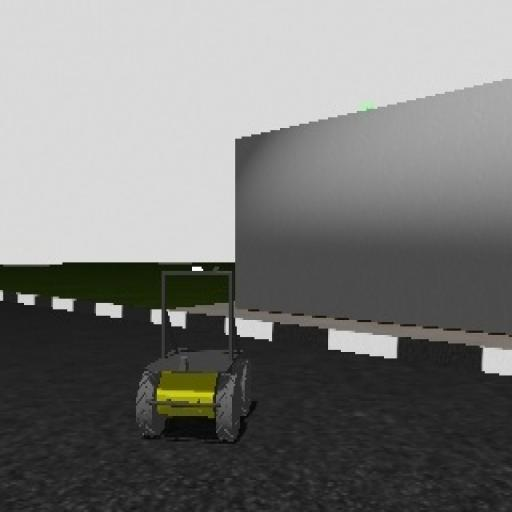huskya200: (130, 260, 264, 443)
